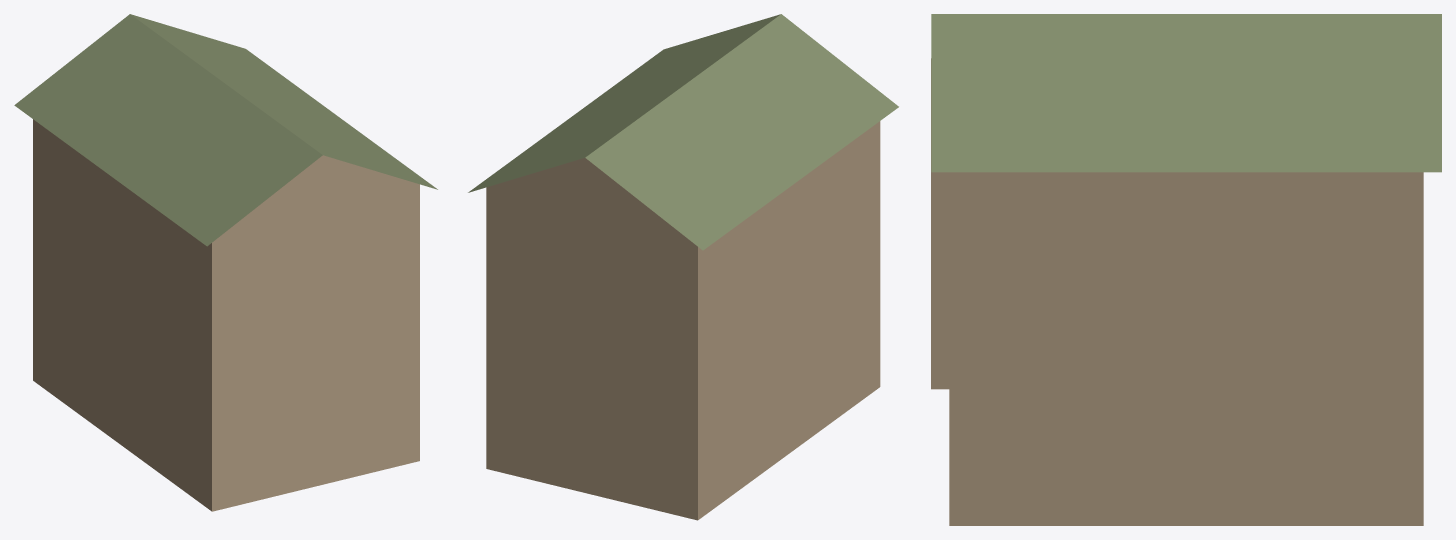
Rendered from shop.glb.
3 views of the same model, side by side, from view 1: azimuth 30°, elevation 25°; view 2: azimuth 150°, elevation 25°; view 3: azimuth 270°, elevation 25° (orthographic). The views are drawn at different scales.
Visible parts, largest first — view 1: shop; view 2: shop; view 3: shop.
Part boxes in pixels (x1,y1,x2,y2): shop: [14, 14, 437, 511]; shop: [468, 14, 898, 520]; shop: [931, 14, 1441, 525].
Bounding box in the file's own units: 6.95 × 9.65 × 9.88.
